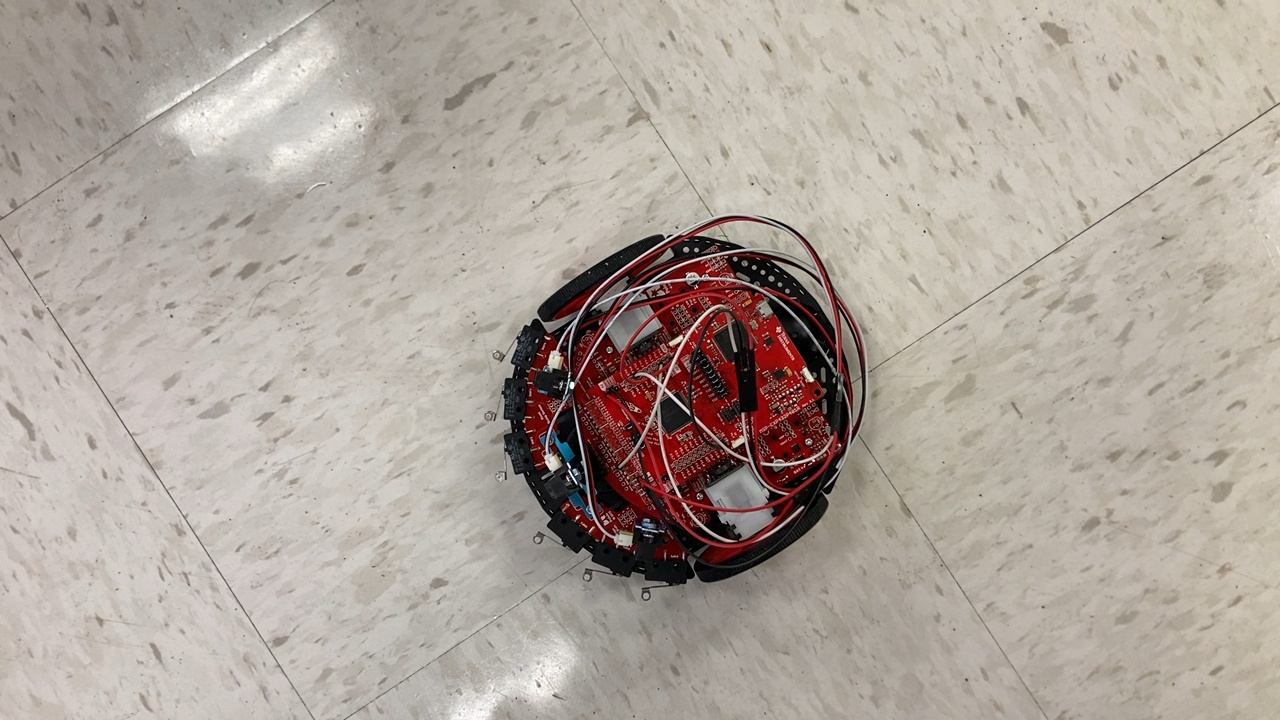robot: (483, 207, 879, 604)
